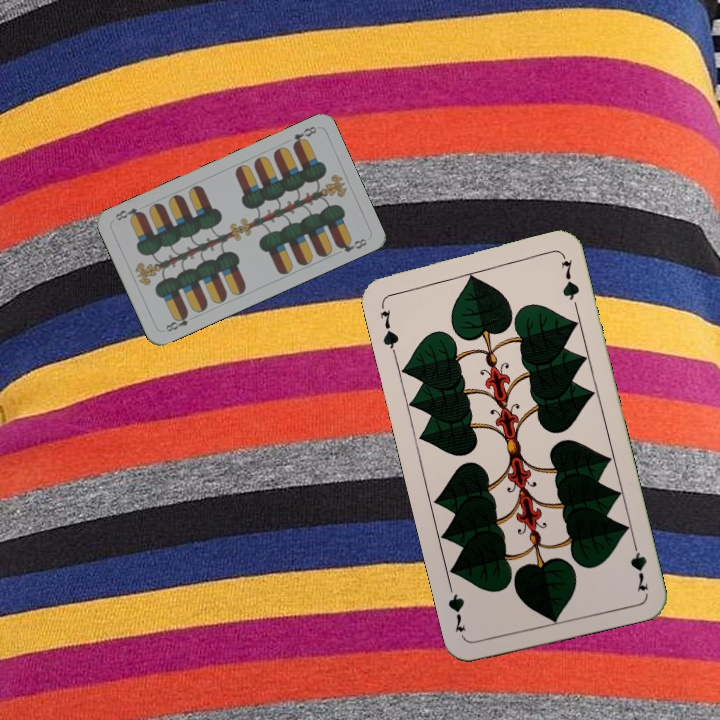E8: (161, 309, 198, 334), (288, 122, 319, 150)
G7: (626, 535, 651, 594), (376, 298, 401, 356)
